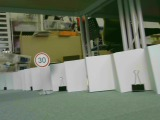speed_30: (32, 51, 51, 69)
